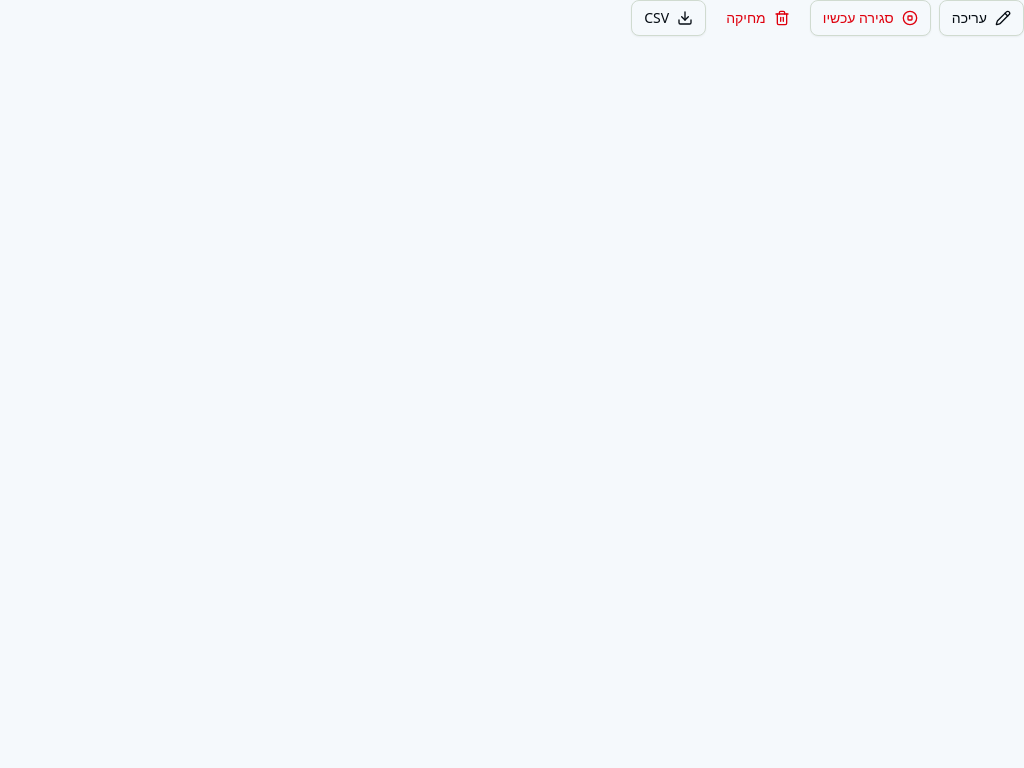
Scenario: SurveyActions: deleting › a Survey nobody answered says only the Survey goes
The image size is (1024, 768).
Click the button "מחיקה".
click(758, 18)  # box [714,0,802,36]
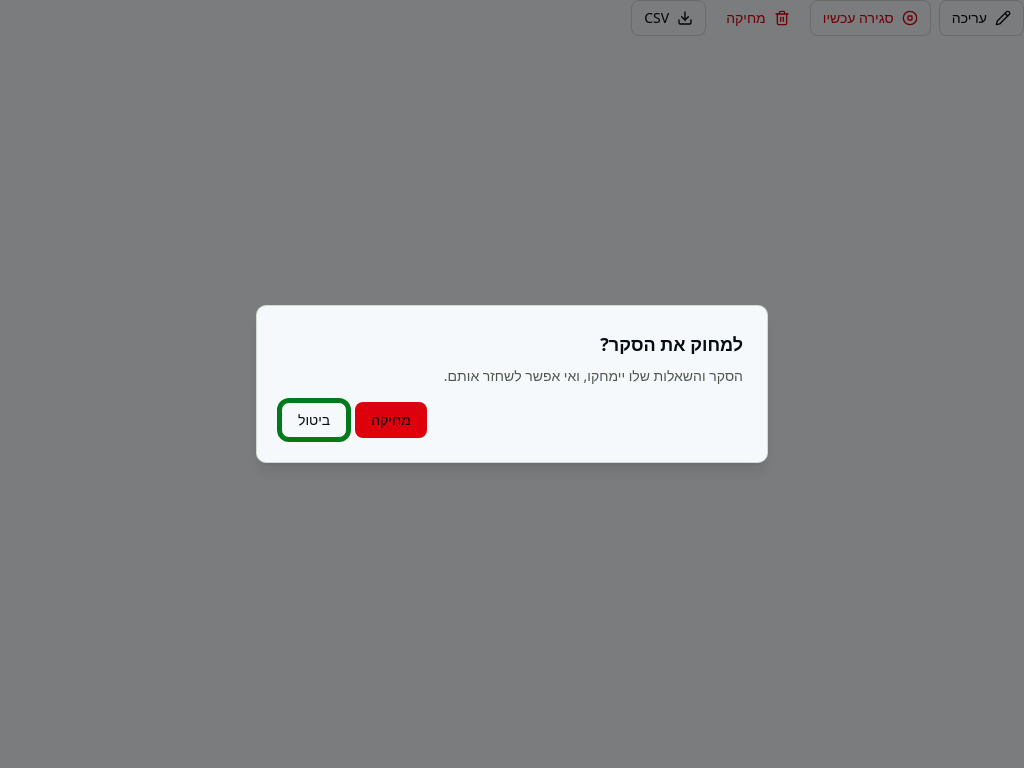
expect the text "הסקר והשאלות שלו יימחקו, ואי אפשר לשחזר אותם." is shown: met, box [444,366,743,385]
